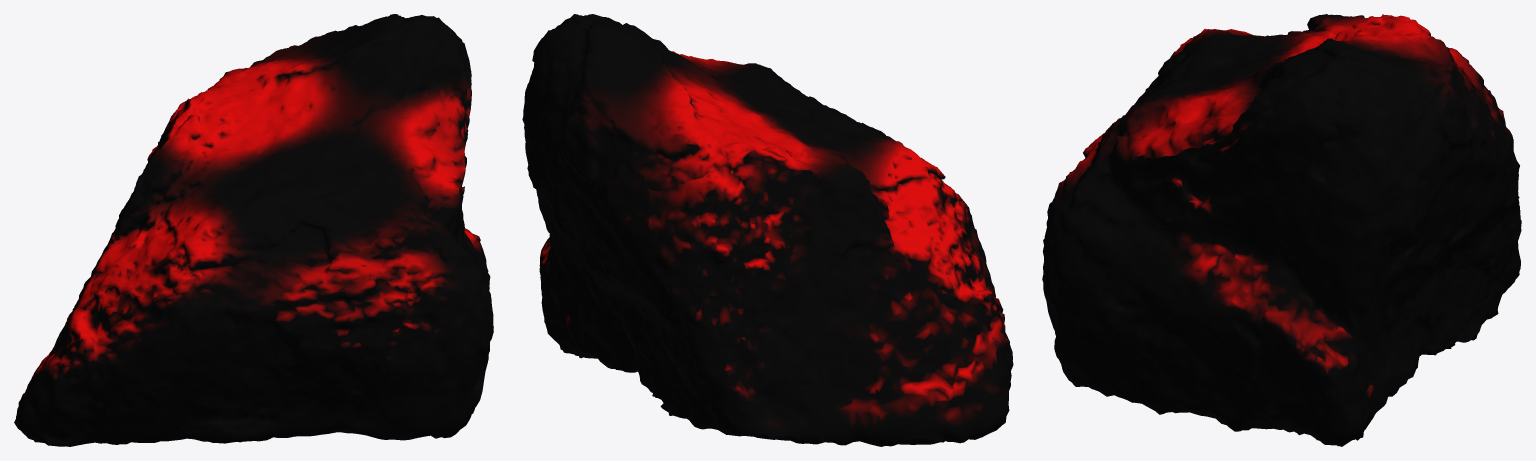
Rendered from SM_BoulderMossy_00.fbx.
3 views of the same model, side by side, from view 1: azimuth 30°, elevation 25°; view 2: azimuth 150°, elevation 25°; view 3: azimuth 270°, elevation 25° (orthographic). The views are drawn at different scales.
Visible parts, largest first — view 1: SM_BoulderMossy_00; view 2: SM_BoulderMossy_00; view 3: SM_BoulderMossy_00.
Part boxes in pixels (x1,y1,x2,y2): SM_BoulderMossy_00: [14, 14, 493, 446]; SM_BoulderMossy_00: [522, 14, 1013, 446]; SM_BoulderMossy_00: [1042, 14, 1521, 446].
Size of the model in its own units: 190 by 150 by 131.
